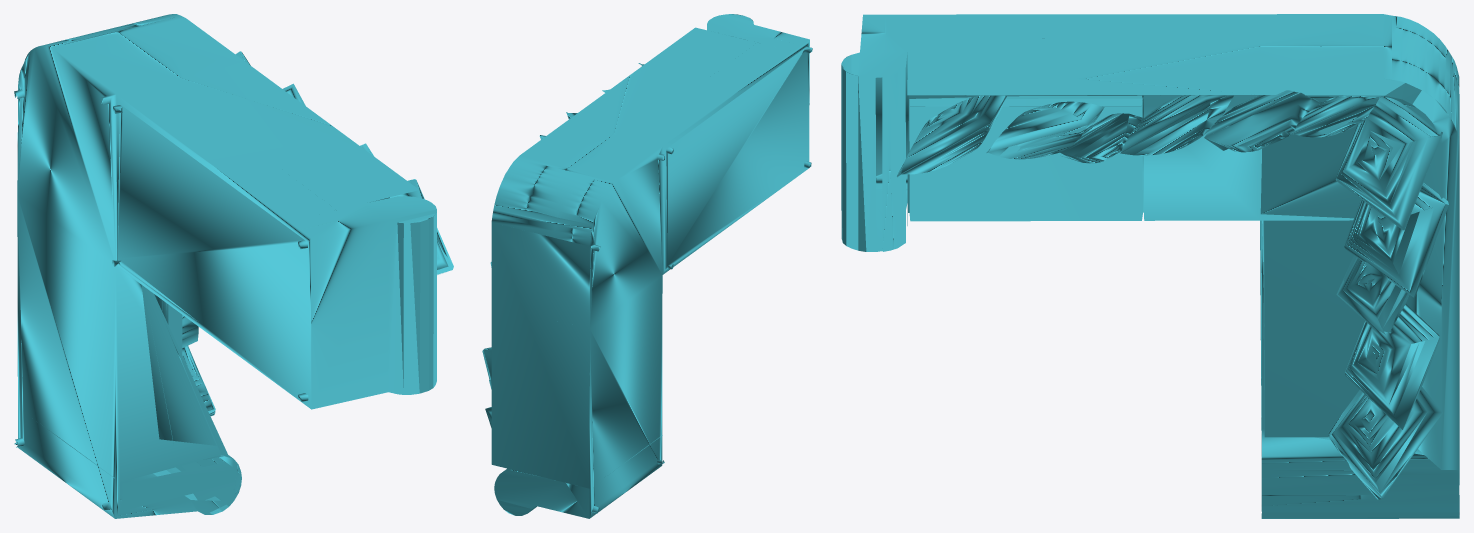
3 views of the same model, side by side, from view 1: azimuth 30°, elevation 25°; view 2: azimuth 150°, elevation 25°; view 3: azimuth 270°, elevation 25° (orthographic). The views are drawn at different scales.
Parts seen in each view (by area): view 1: Renderer Node; view 2: Renderer Node; view 3: Renderer Node.
Boxes of the visible parts, bbox=[...] form: Renderer Node: bbox=[14, 14, 453, 518]; Renderer Node: bbox=[482, 14, 812, 518]; Renderer Node: bbox=[841, 14, 1459, 518].
Size of the model in its own units: 0.249 by 0.6083 by 0.7531.
1 material, 1 textured.
